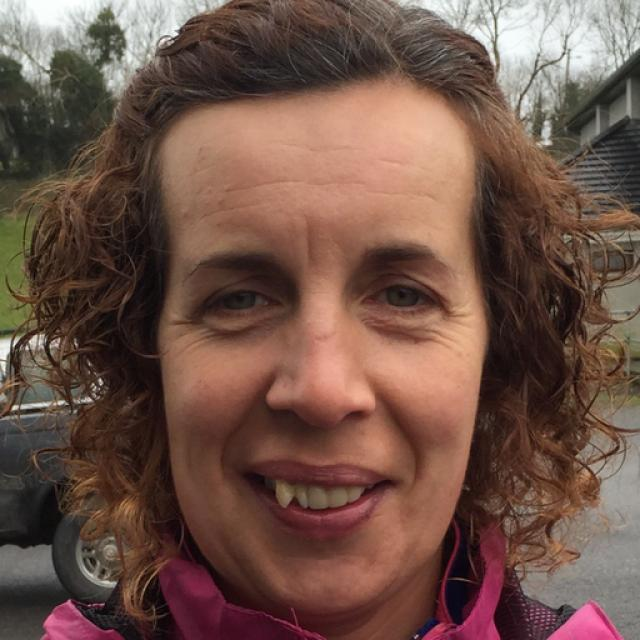Acne: (193, 135, 214, 159), (172, 207, 193, 226), (214, 180, 235, 197), (209, 213, 226, 229), (214, 196, 229, 211)
Dark Circle: (358, 310, 448, 343), (201, 312, 292, 343)
Wrinkle: (382, 394, 418, 488), (235, 171, 373, 195), (363, 187, 445, 207)
